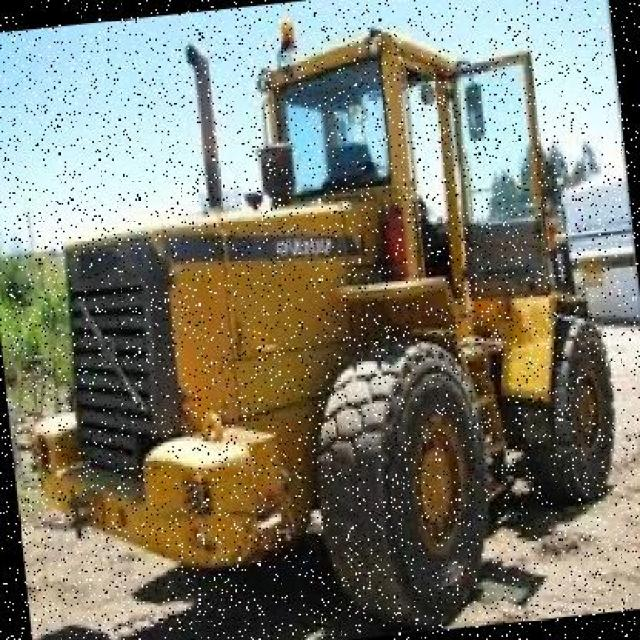buldozerpayloadergrader: (0, 4, 632, 640)
